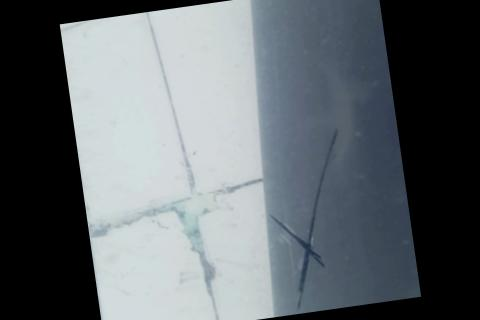keretakan: (256, 122, 365, 315)
